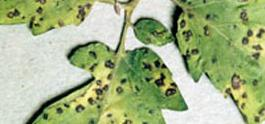Tomato leaf bacterial spot: (5, 37, 189, 124), (173, 0, 265, 124), (0, 0, 103, 39)
